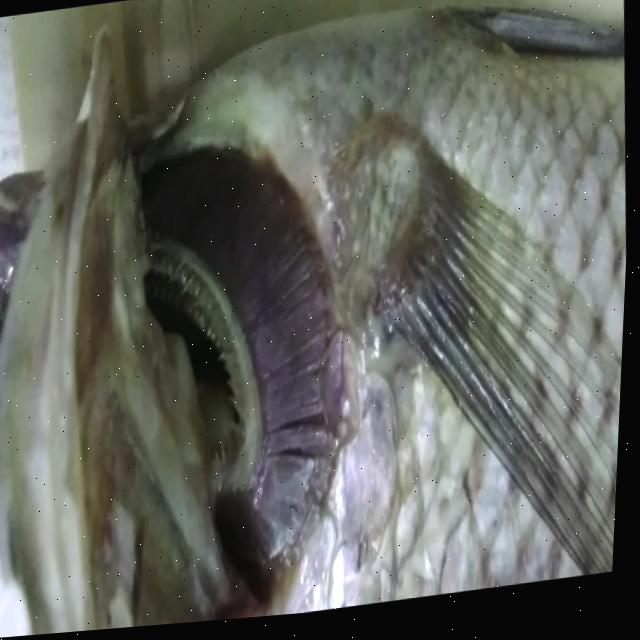Non-Fresh: (121, 108, 380, 609)
